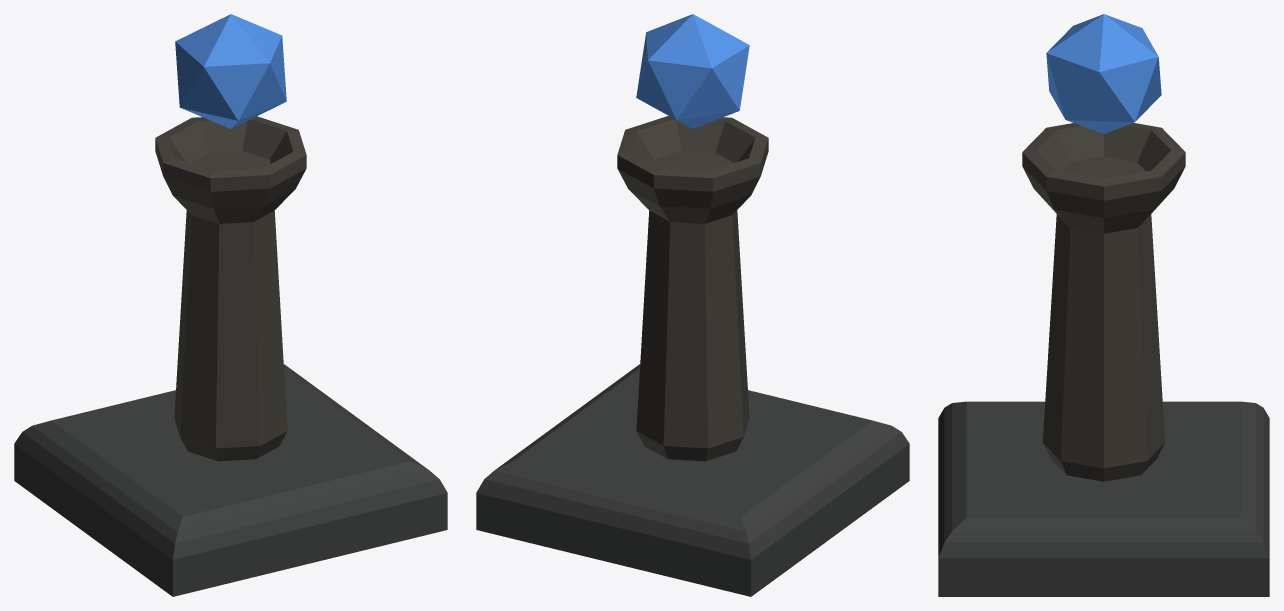
Rendered from Magic_Tower.fbx.
3 renders of one model, left to right at view 1: azimuth 30°, elevation 25°; view 2: azimuth 150°, elevation 25°; view 3: azimuth 270°, elevation 25°, orthographic. The views are drawn at different scales.
Parts seen in each view (by area): view 1: Base, Cylinder, Magic Orb; view 2: Base, Cylinder, Magic Orb; view 3: Base, Cylinder, Magic Orb.
Boxes of the visible parts, left/top/right/bottom form: Base: left=14, top=364, right=447, bottom=596; Cylinder: left=155, top=116, right=306, bottom=461; Magic Orb: left=175, top=14, right=286, bottom=128; Base: left=476, top=364, right=909, bottom=596; Cylinder: left=617, top=116, right=768, bottom=461; Magic Orb: left=636, top=14, right=749, bottom=128; Base: left=938, top=401, right=1269, bottom=596; Cylinder: left=1022, top=123, right=1185, bottom=481; Magic Orb: left=1046, top=14, right=1161, bottom=133.
Bounding box in the file's own units: 400 × 683 × 400.
